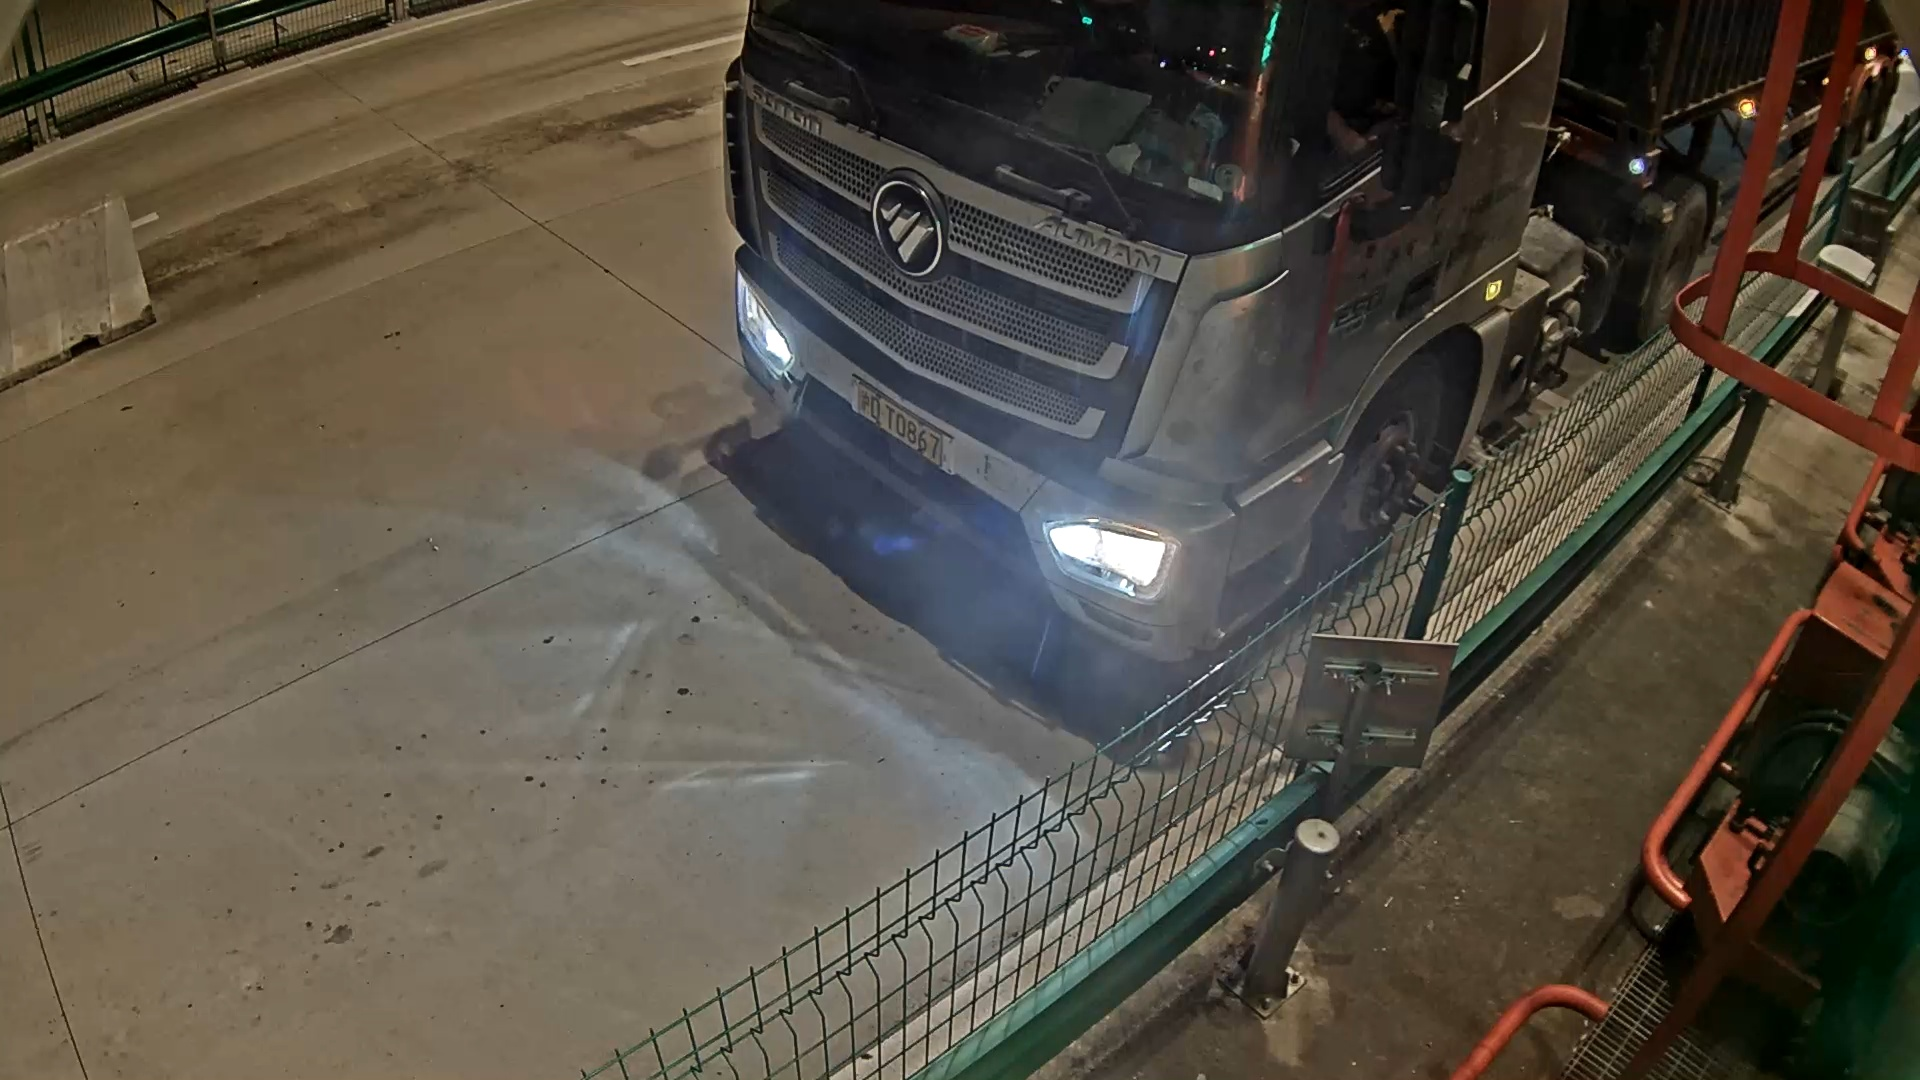head: (721, 14, 1375, 677)
plate: (842, 384, 980, 476)
